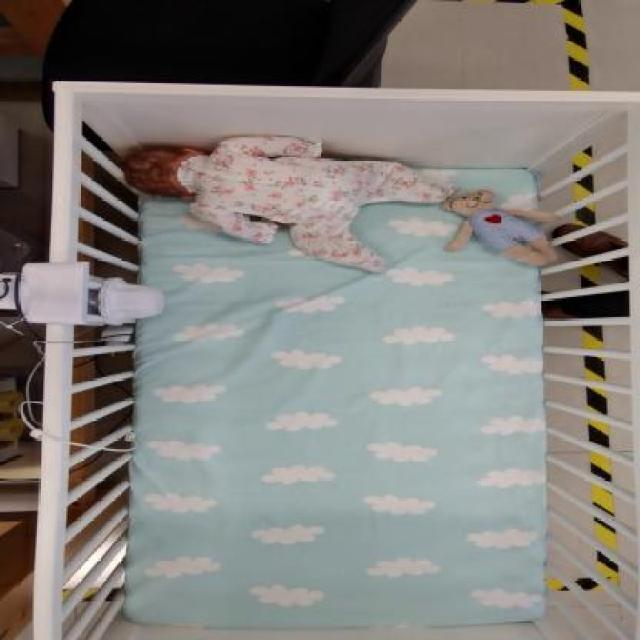baby: (120, 132, 459, 276)
